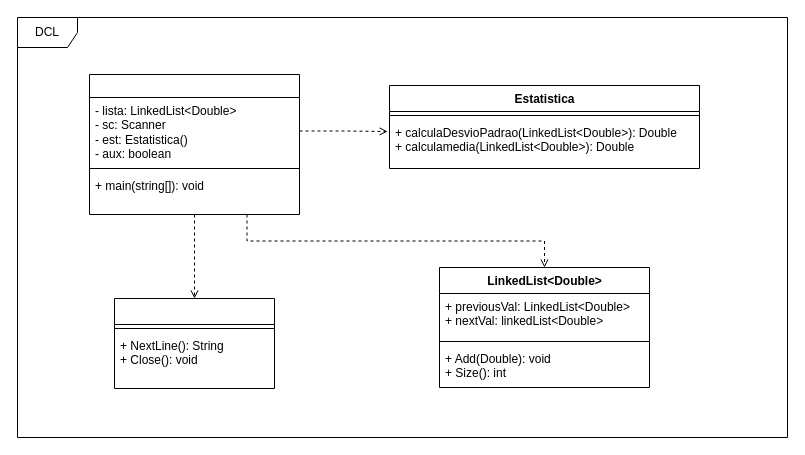
Image size: 805x455. Some labels were removed from this diagram. Each missing label, with the box of its shape:
Principal: (88, 74, 300, 214)
Scanner: (114, 298, 274, 388)
